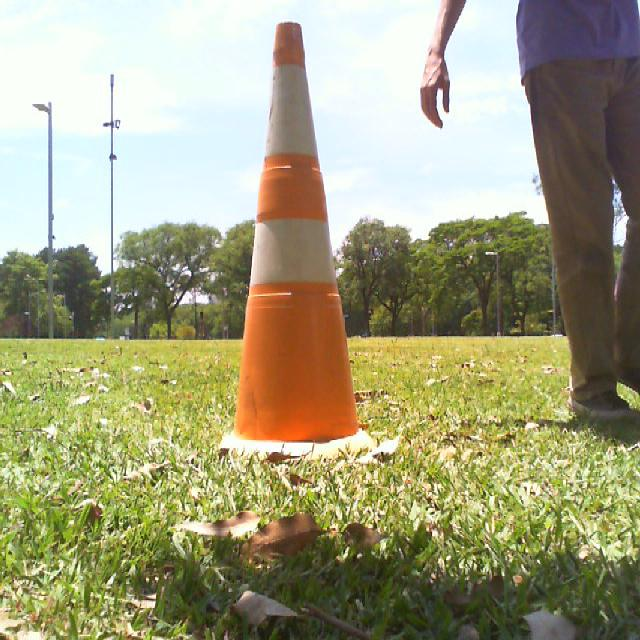cone: (218, 21, 375, 455)
